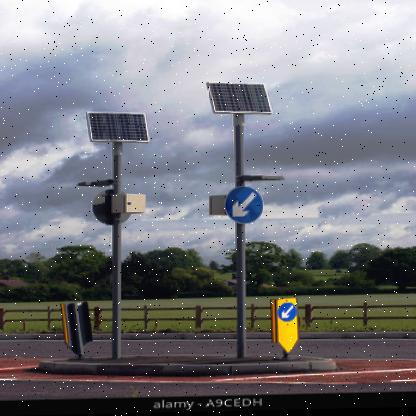Keep left: (226, 185, 268, 226), (278, 302, 299, 323)
